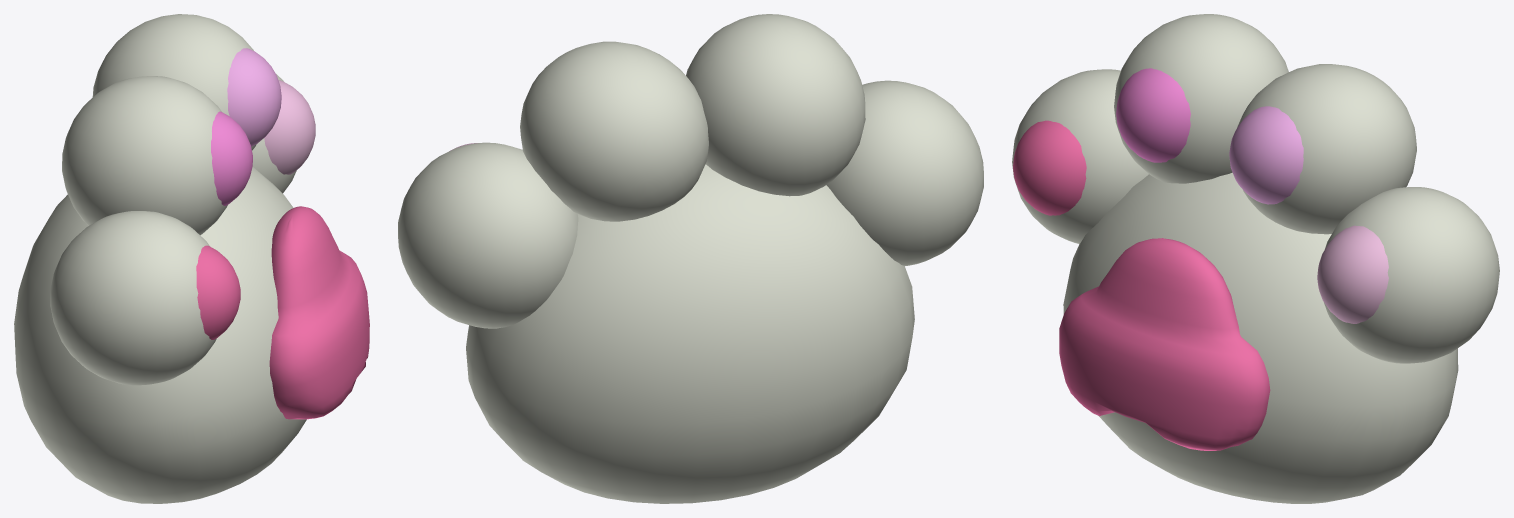
Rendered from foot.gltf.
3 renders of one model, left to right at view 1: azimuth 30°, elevation 25°; view 2: azimuth 150°, elevation 25°; view 3: azimuth 270°, elevation 25°, orthographic. The views are drawn at different scales.
Visible parts, largest first — view 1: Sphere; view 2: Sphere; view 3: Sphere.
Boxes of the visible parts, x1,y1,x2,y2 form: Sphere: (14, 14, 369, 503); Sphere: (398, 14, 983, 503); Sphere: (1012, 14, 1499, 503).
Bounding box in the file's own units: 0.8241 × 0.8774 × 0.8958.
